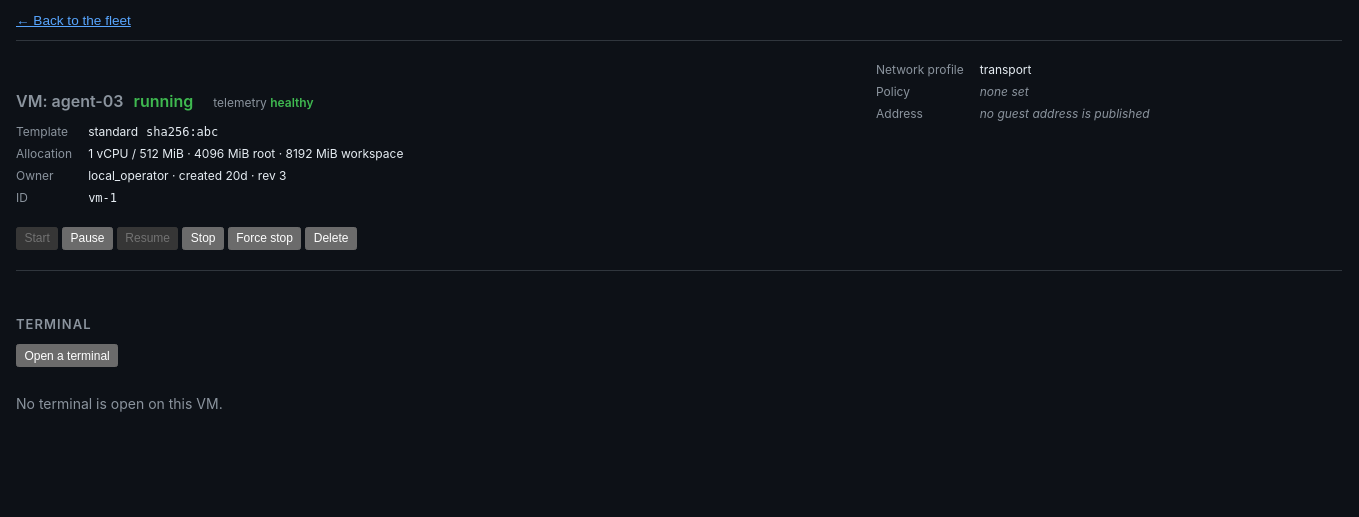
Test: VMDetail › shows the host refusal when the session cap is reached
Click the button "Open a terminal": (67, 356) left=16, top=344, right=118, bottom=367
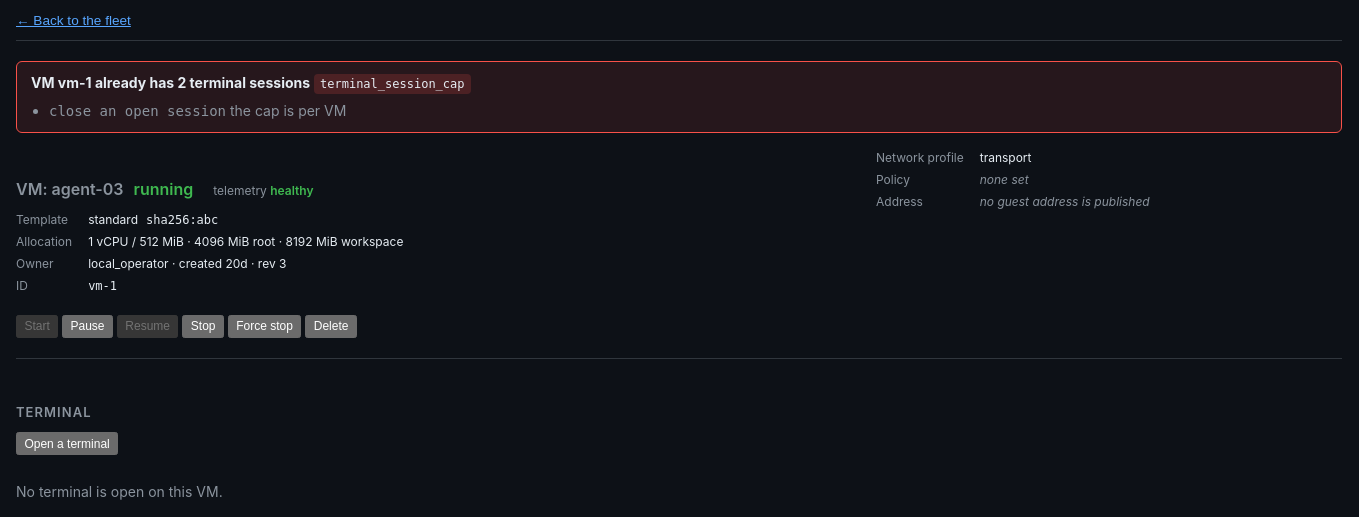
Check: the text "VM vm-1 already has 2 terminal sessions" is shown, box left=31, top=74, right=310, bottom=91
Check: the text "terminal_session_cap" is shown, box left=314, top=74, right=470, bottom=94
